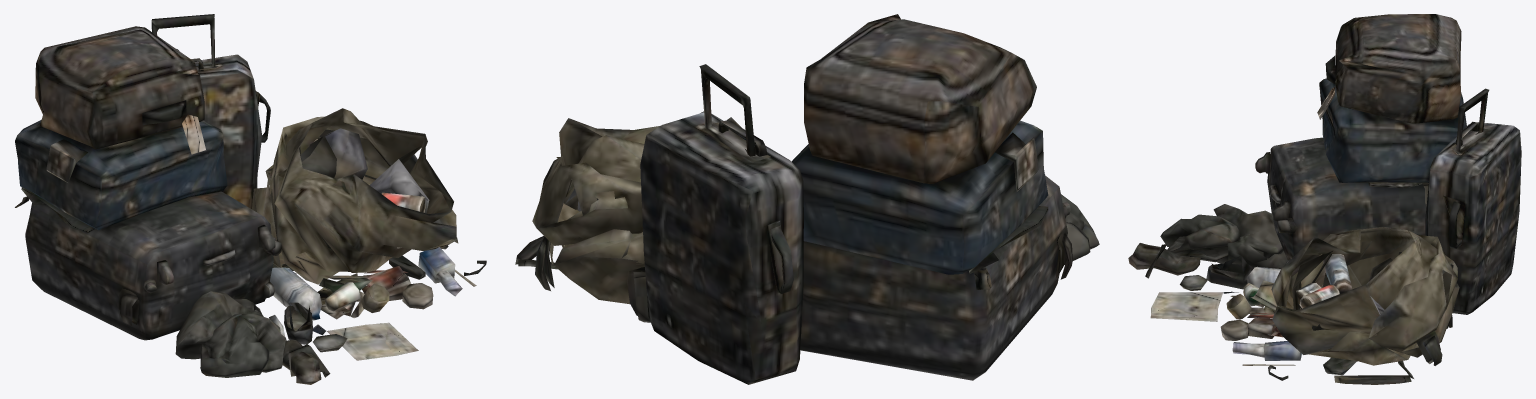
The model's file is abandoned_luggage_pil.glb.
The picture shows the model from 3 angles, left to right: view 1: azimuth 30°, elevation 25°; view 2: azimuth 150°, elevation 25°; view 3: azimuth 270°, elevation 25°; orthographic projection. The views are drawn at different scales.
Parts seen in each view (by area): view 1: geometry_0; view 2: geometry_0; view 3: geometry_0.
Boxes of the visible parts, x1,y1,x2,y2 form: geometry_0: (15,14,486,384); geometry_0: (515,14,1099,384); geometry_0: (1128,14,1521,384).
Size of the model in its own units: 1.5 by 0.8931 by 1.43.
1 material, 1 textured.
